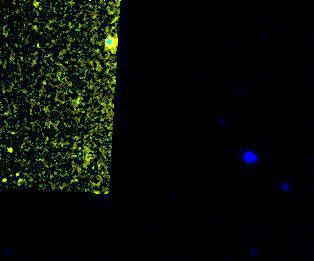star: (0, 135, 26, 165)
